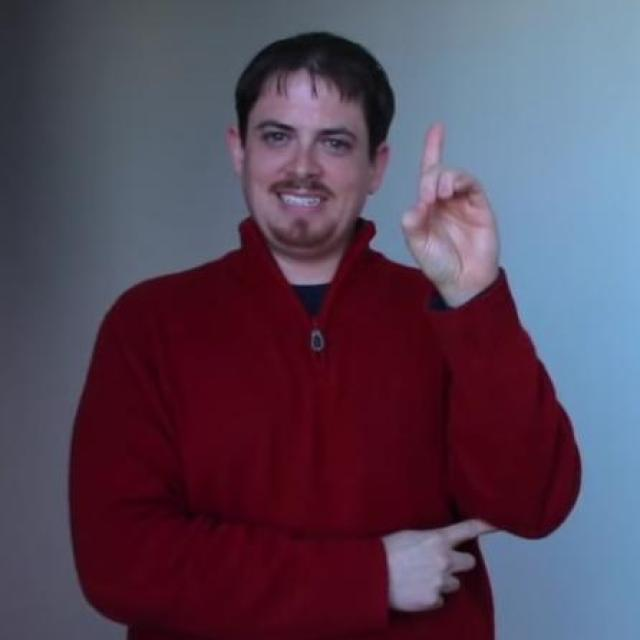D: (396, 120, 501, 306)
